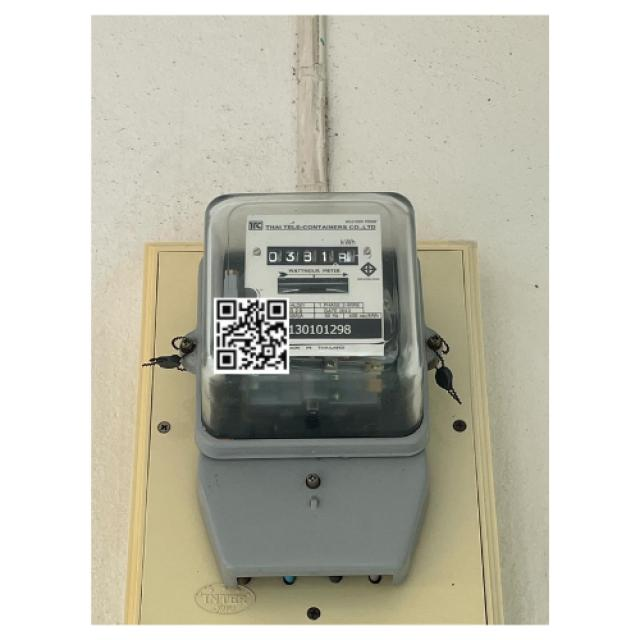qr_code: (213, 297, 289, 375)
